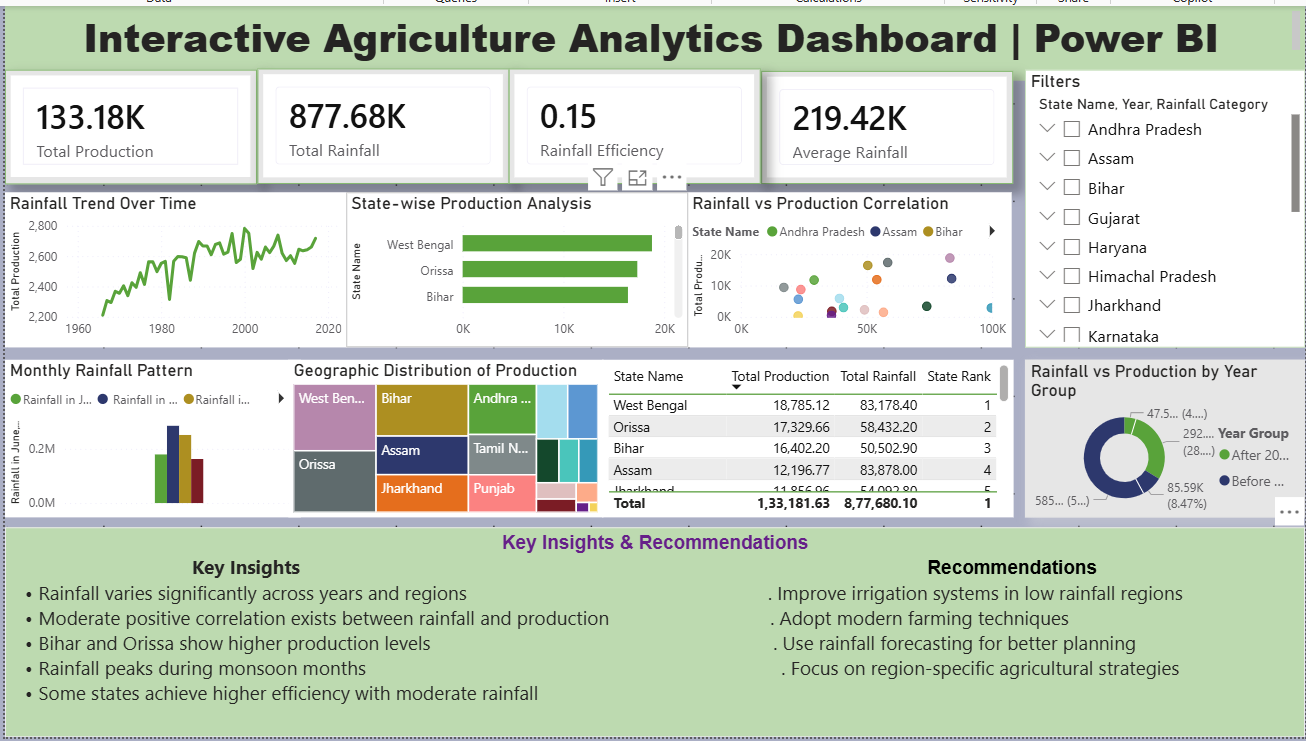

The dashboard page shown, as its layout file describes it:
{"tool":"powerbi","page":{"name":"Agriculture Dashboard","canvas":[1280,720],"ordinal":2},"visuals":[{"type":"textbox","box":[0,0,1280.3,73.4],"z":0},{"type":"cardVisual","fields":{"Data":["rain-agriculture.Total Production"]},"box":[0,62.4,248.2,112.5],"z":1000},{"type":"cardVisual","fields":{"Data":["rain-agriculture.Total Rainfall"]},"box":[248.2,61.1,248.2,113.7],"z":2000},{"type":"cardVisual","fields":{"Data":["rain-agriculture.Average Rainfall"]},"box":[744.7,63.6,248.2,111.3],"z":3000},{"type":"cardVisual","fields":{"Data":["rain-agriculture.Rainfall Efficiency"]},"box":[496.5,61.1,248.2,113.7],"z":4000},{"type":"lineChart","title":"Rainfall Trend Over Time","fields":{"Category":["rain-agriculture.Year"],"Y":["rain-agriculture.Total Production"]},"box":[0,183.4,336.3,152.9],"z":5000},{"type":"clusteredBarChart","title":"State-wise Production Analysis","fields":{"Category":["rain-agriculture.State Name"],"Y":["rain-agriculture.Total Production"]},"box":[336.3,183.4,336.3,152.9],"z":6000},{"type":"scatterChart","title":"Rainfall vs Production Correlation","fields":{"X":["rain-agriculture.Total Rainfall"],"Y":["rain-agriculture.Total Production"],"Series":["rain-agriculture.State Name"]},"box":[672.6,183.4,319.2,152.9],"z":7000},{"type":"clusteredColumnChart","title":"Monthly Rainfall Pattern","fields":{"Y":["Sum(rain-agriculture.Rainfall in June)","Sum(rain-agriculture.Rainfall in July)","Sum(rain-agriculture.Rainfall in August)","Sum(rain-agriculture.Rainfall in September)"]},"box":[0,348.5,291,155.3],"z":8000},{"type":"treemap","title":"Geographic Distribution of Production","fields":{"Group":["rain-agriculture.State Name"],"Values":["rain-agriculture.Total Production"]},"box":[278.8,348.5,309.4,155.3],"z":9000},{"type":"slicer","title":"Filters","fields":{"Values":["rain-agriculture.State Name","rain-agriculture.Year","rain-agriculture.Rainfall Category"]},"box":[1003.9,62.4,276.4,273.9],"z":10000},{"type":"tableEx","fields":{"Values":["rain-agriculture.State Name","rain-agriculture.Total Production","rain-agriculture.Total Rainfall","rain-agriculture.State Rank"]},"box":[588.2,348.5,404.8,155.3],"z":11000},{"type":"donutChart","title":"Rainfall vs Production by Year Group","fields":{"Y":["rain-agriculture.Total Production","rain-agriculture.Total Rainfall","rain-agriculture.TOTAL RAINFALL (MONTH-WISE)"],"Category":["rain-agriculture.Year Group"]},"box":[1003.9,348.5,276.4,155.3],"z":12000},{"type":"textbox","box":[0,513.6,1280.3,206.7],"z":13000}]}

Visuals, with their boxes on the page's 1280x720 design canvas (x1, y1, x2, y2). These are canvas units, not pixel positions in the 1306x741 screenshot, which may show the page scaled, cropped or inside an application window:
textbox: [x1=0, y1=0, x2=1280, y2=73]
cardVisual - rain-agriculture.Total Production: [x1=0, y1=62, x2=248, y2=175]
cardVisual - rain-agriculture.Total Rainfall: [x1=248, y1=61, x2=496, y2=175]
cardVisual - rain-agriculture.Average Rainfall: [x1=745, y1=64, x2=993, y2=175]
cardVisual - rain-agriculture.Rainfall Efficiency: [x1=496, y1=61, x2=745, y2=175]
"Rainfall Trend Over Time" lineChart: [x1=0, y1=183, x2=336, y2=336]
"State-wise Production Analysis" clusteredBarChart: [x1=336, y1=183, x2=673, y2=336]
"Rainfall vs Production Correlation" scatterChart: [x1=673, y1=183, x2=992, y2=336]
"Monthly Rainfall Pattern" clusteredColumnChart: [x1=0, y1=348, x2=291, y2=504]
"Geographic Distribution of Production" treemap: [x1=279, y1=348, x2=588, y2=504]
"Filters" slicer: [x1=1004, y1=62, x2=1280, y2=336]
tableEx - rain-agriculture.State Name x rain-agriculture.Total Production: [x1=588, y1=348, x2=993, y2=504]
"Rainfall vs Production by Year Group" donutChart: [x1=1004, y1=348, x2=1280, y2=504]
textbox: [x1=0, y1=514, x2=1280, y2=720]
